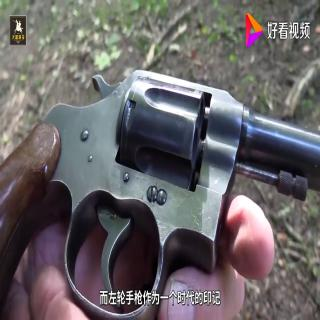gun: (0, 38, 320, 320)
